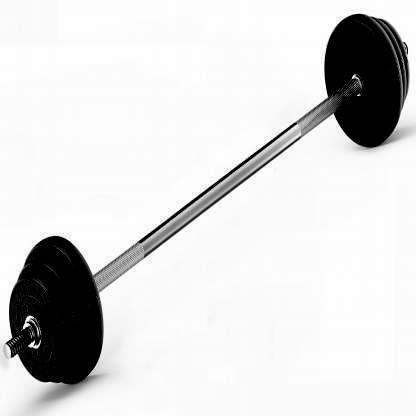Barbell: (0, 336, 16, 371)
